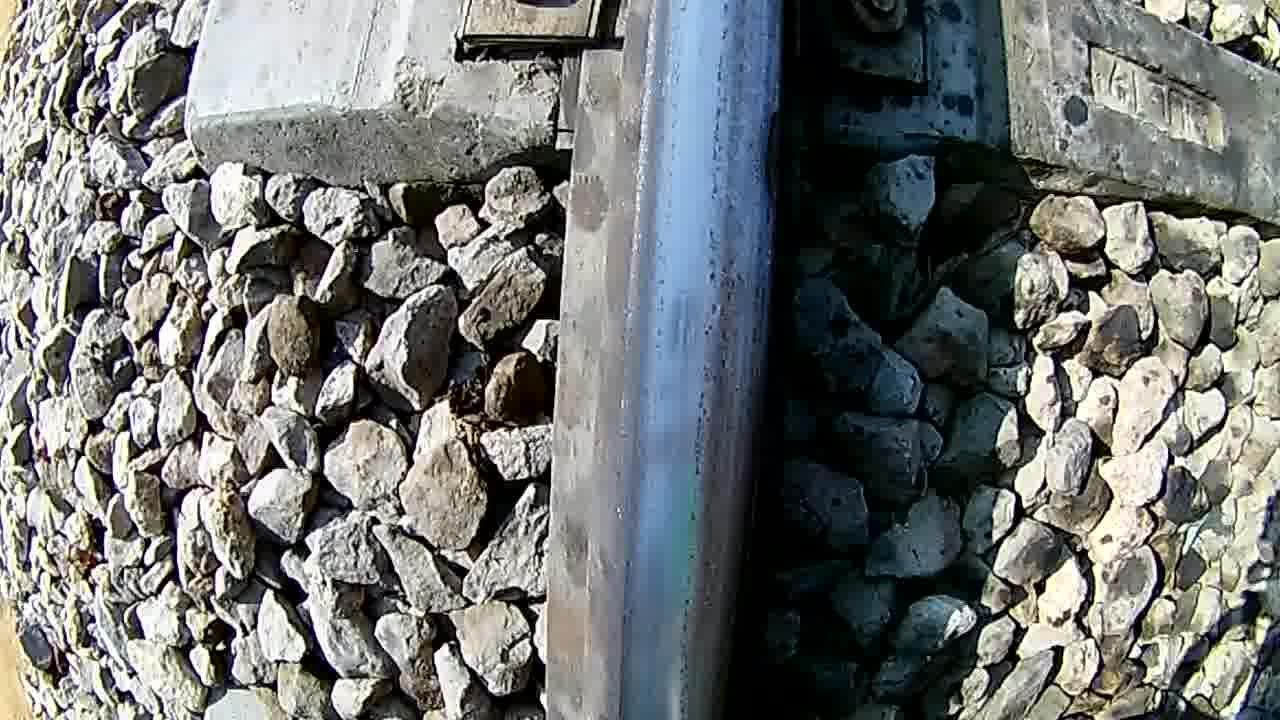crack: (606, 0, 784, 719)
